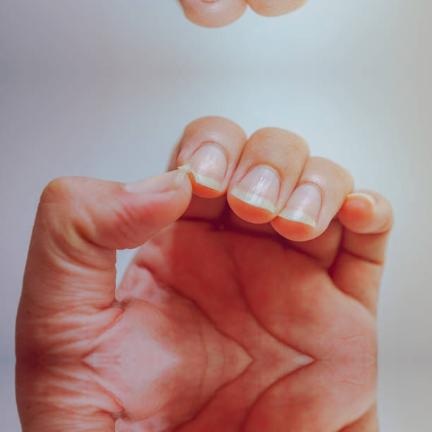Nail: (231, 165, 280, 212), (279, 183, 322, 226), (191, 144, 227, 190), (124, 171, 184, 193)
